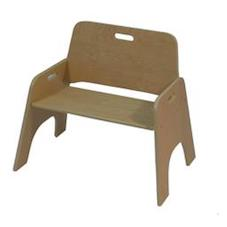chair: (5, 5, 208, 216)
